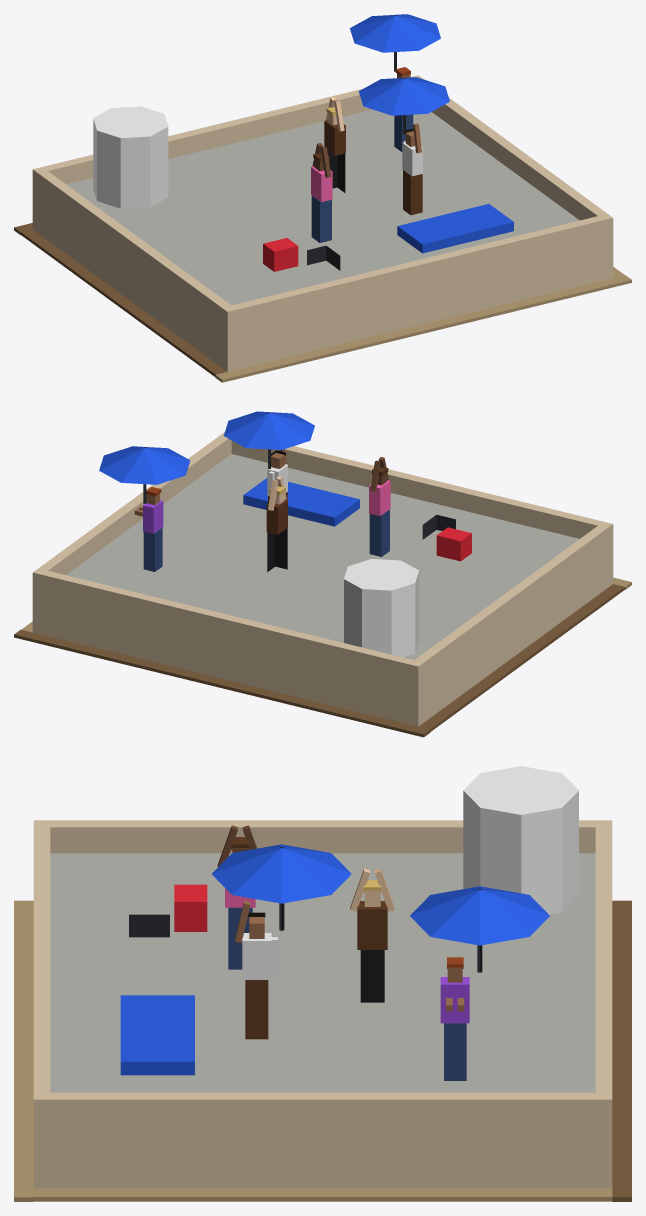
The model's file is techo_refugiados_0.obj.
The picture shows the model from 3 angles, top to bottom: view 1: azimuth 30°, elevation 25°; view 2: azimuth 150°, elevation 25°; view 3: azimuth 270°, elevation 25°; orthographic projection. The views are drawn at different scales.
Visible parts, largest first — view 1: techo_refugiados_0; view 2: techo_refugiados_0; view 3: techo_refugiados_0.
Boxes of the visible parts, x1=… form: techo_refugiados_0: x1=14, y1=14, x2=631, y2=382; techo_refugiados_0: x1=14, y1=411, x2=631, y2=737; techo_refugiados_0: x1=14, y1=766, x2=631, y2=1201.
Bounding box in the file's own units: 8.5 × 3.4 × 7.48.
